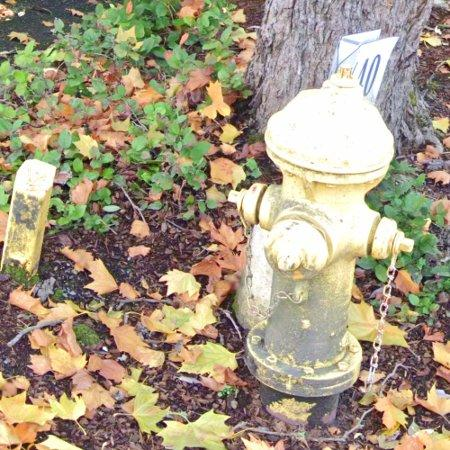a fire hydrant: (229, 69, 415, 426)
